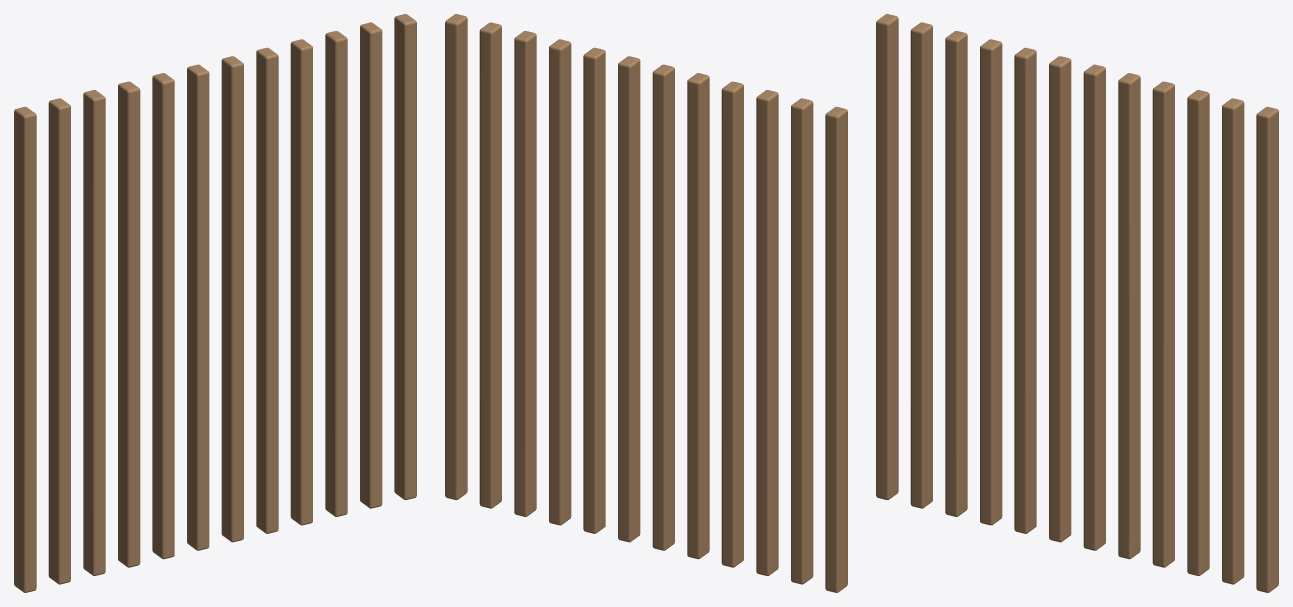
The model's file is atelier-decorative-wall-panel.glb.
The picture shows the model from 3 angles, left to right: view 1: azimuth 30°, elevation 25°; view 2: azimuth 150°, elevation 25°; view 3: azimuth 330°, elevation 25°; orthographic projection.
Visible parts, largest first — view 1: legs.123; view 2: legs.123; view 3: legs.123.
Part boxes in pixels (box(x1,y1,x2,y2)): legs.123: box(14, 14, 416, 592); legs.123: box(445, 14, 847, 592); legs.123: box(876, 14, 1278, 592).
Size of the model in its own units: 1.03 by 1.2 by 0.05.
